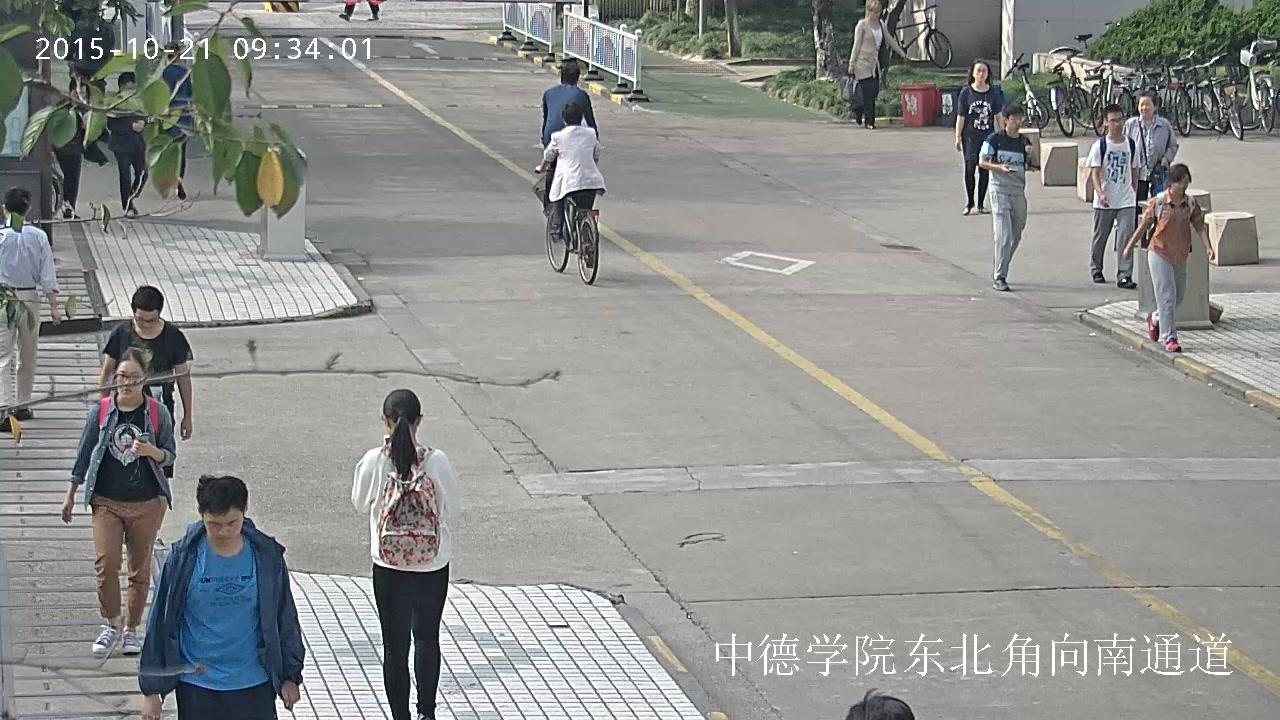face: (204, 510, 243, 542), (117, 361, 143, 397), (134, 308, 160, 330), (1107, 111, 1124, 131), (1172, 173, 1188, 193), (1138, 96, 1153, 116), (71, 85, 87, 101), (974, 63, 987, 82), (867, 1, 880, 18), (1008, 114, 1021, 130), (123, 81, 137, 90)
